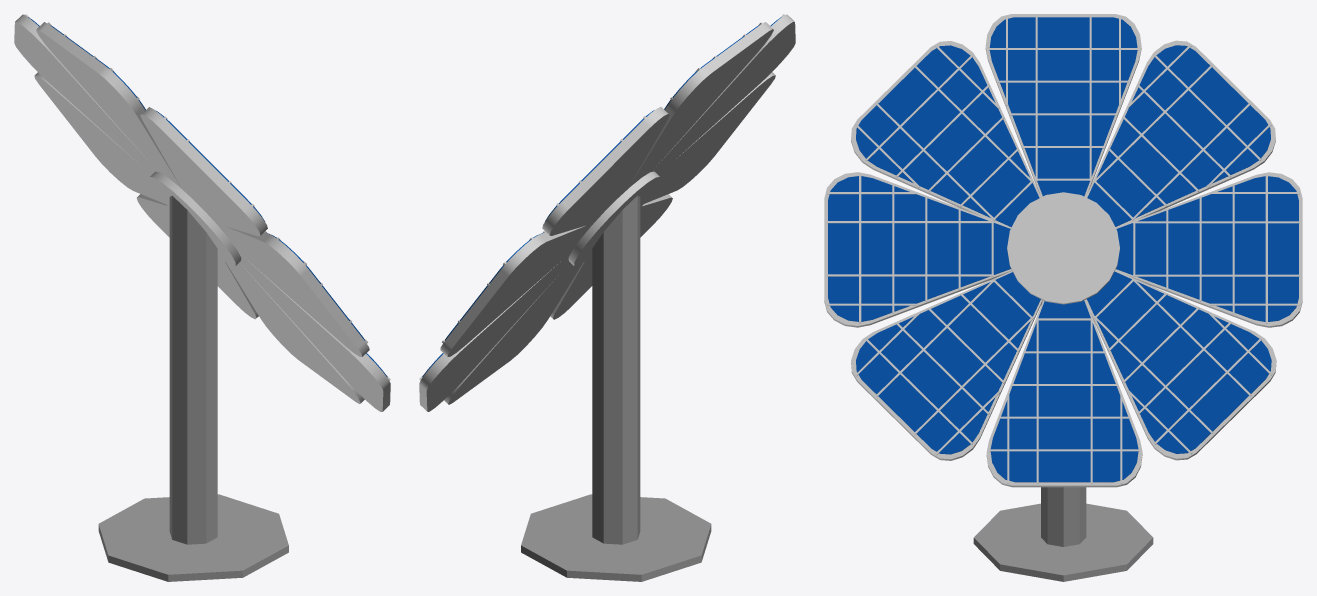
Rendered from SolarpanelAdvanced.fbx.
3 views of the same model, side by side, from view 1: azimuth 30°, elevation 25°; view 2: azimuth 150°, elevation 25°; view 3: azimuth 270°, elevation 25° (orthographic). The views are drawn at different scales.
Parts seen in each view (by area): view 1: SolarPanelAdvanced; view 2: SolarPanelAdvanced; view 3: SolarPanelAdvanced.
Part boxes in pixels (<box>): SolarPanelAdvanced: <box>14,14,390,581</box>; SolarPanelAdvanced: <box>419,14,795,581</box>; SolarPanelAdvanced: <box>824,14,1302,581</box>.
Bounding box in the file's own units: 4.26 × 8.04 × 7.28.
